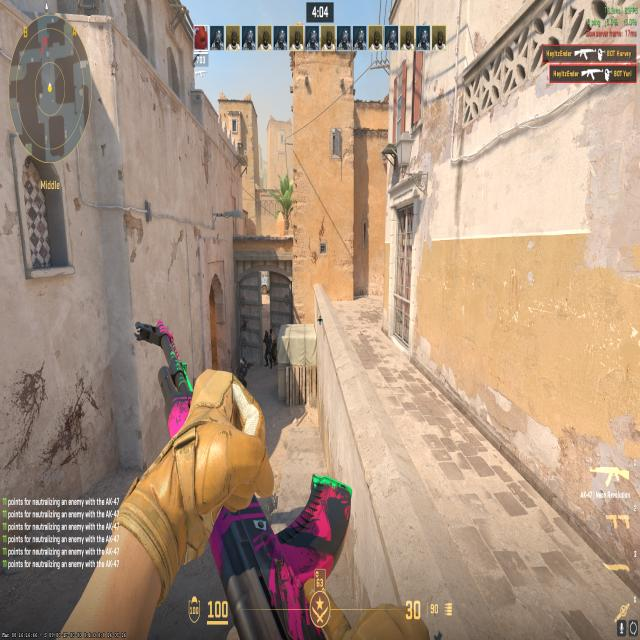ct: (235, 352, 248, 384), (260, 328, 269, 366)
t: (271, 322, 277, 367)
